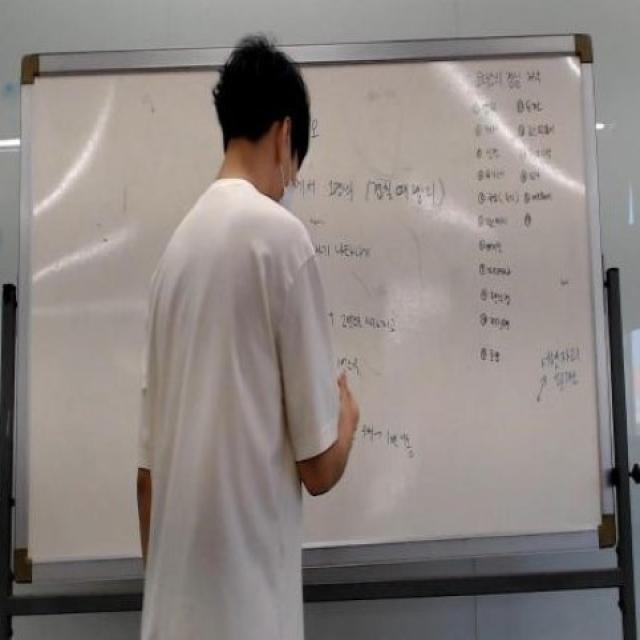Instructor: (153, 35, 343, 640)
White-board: (25, 39, 611, 573)
